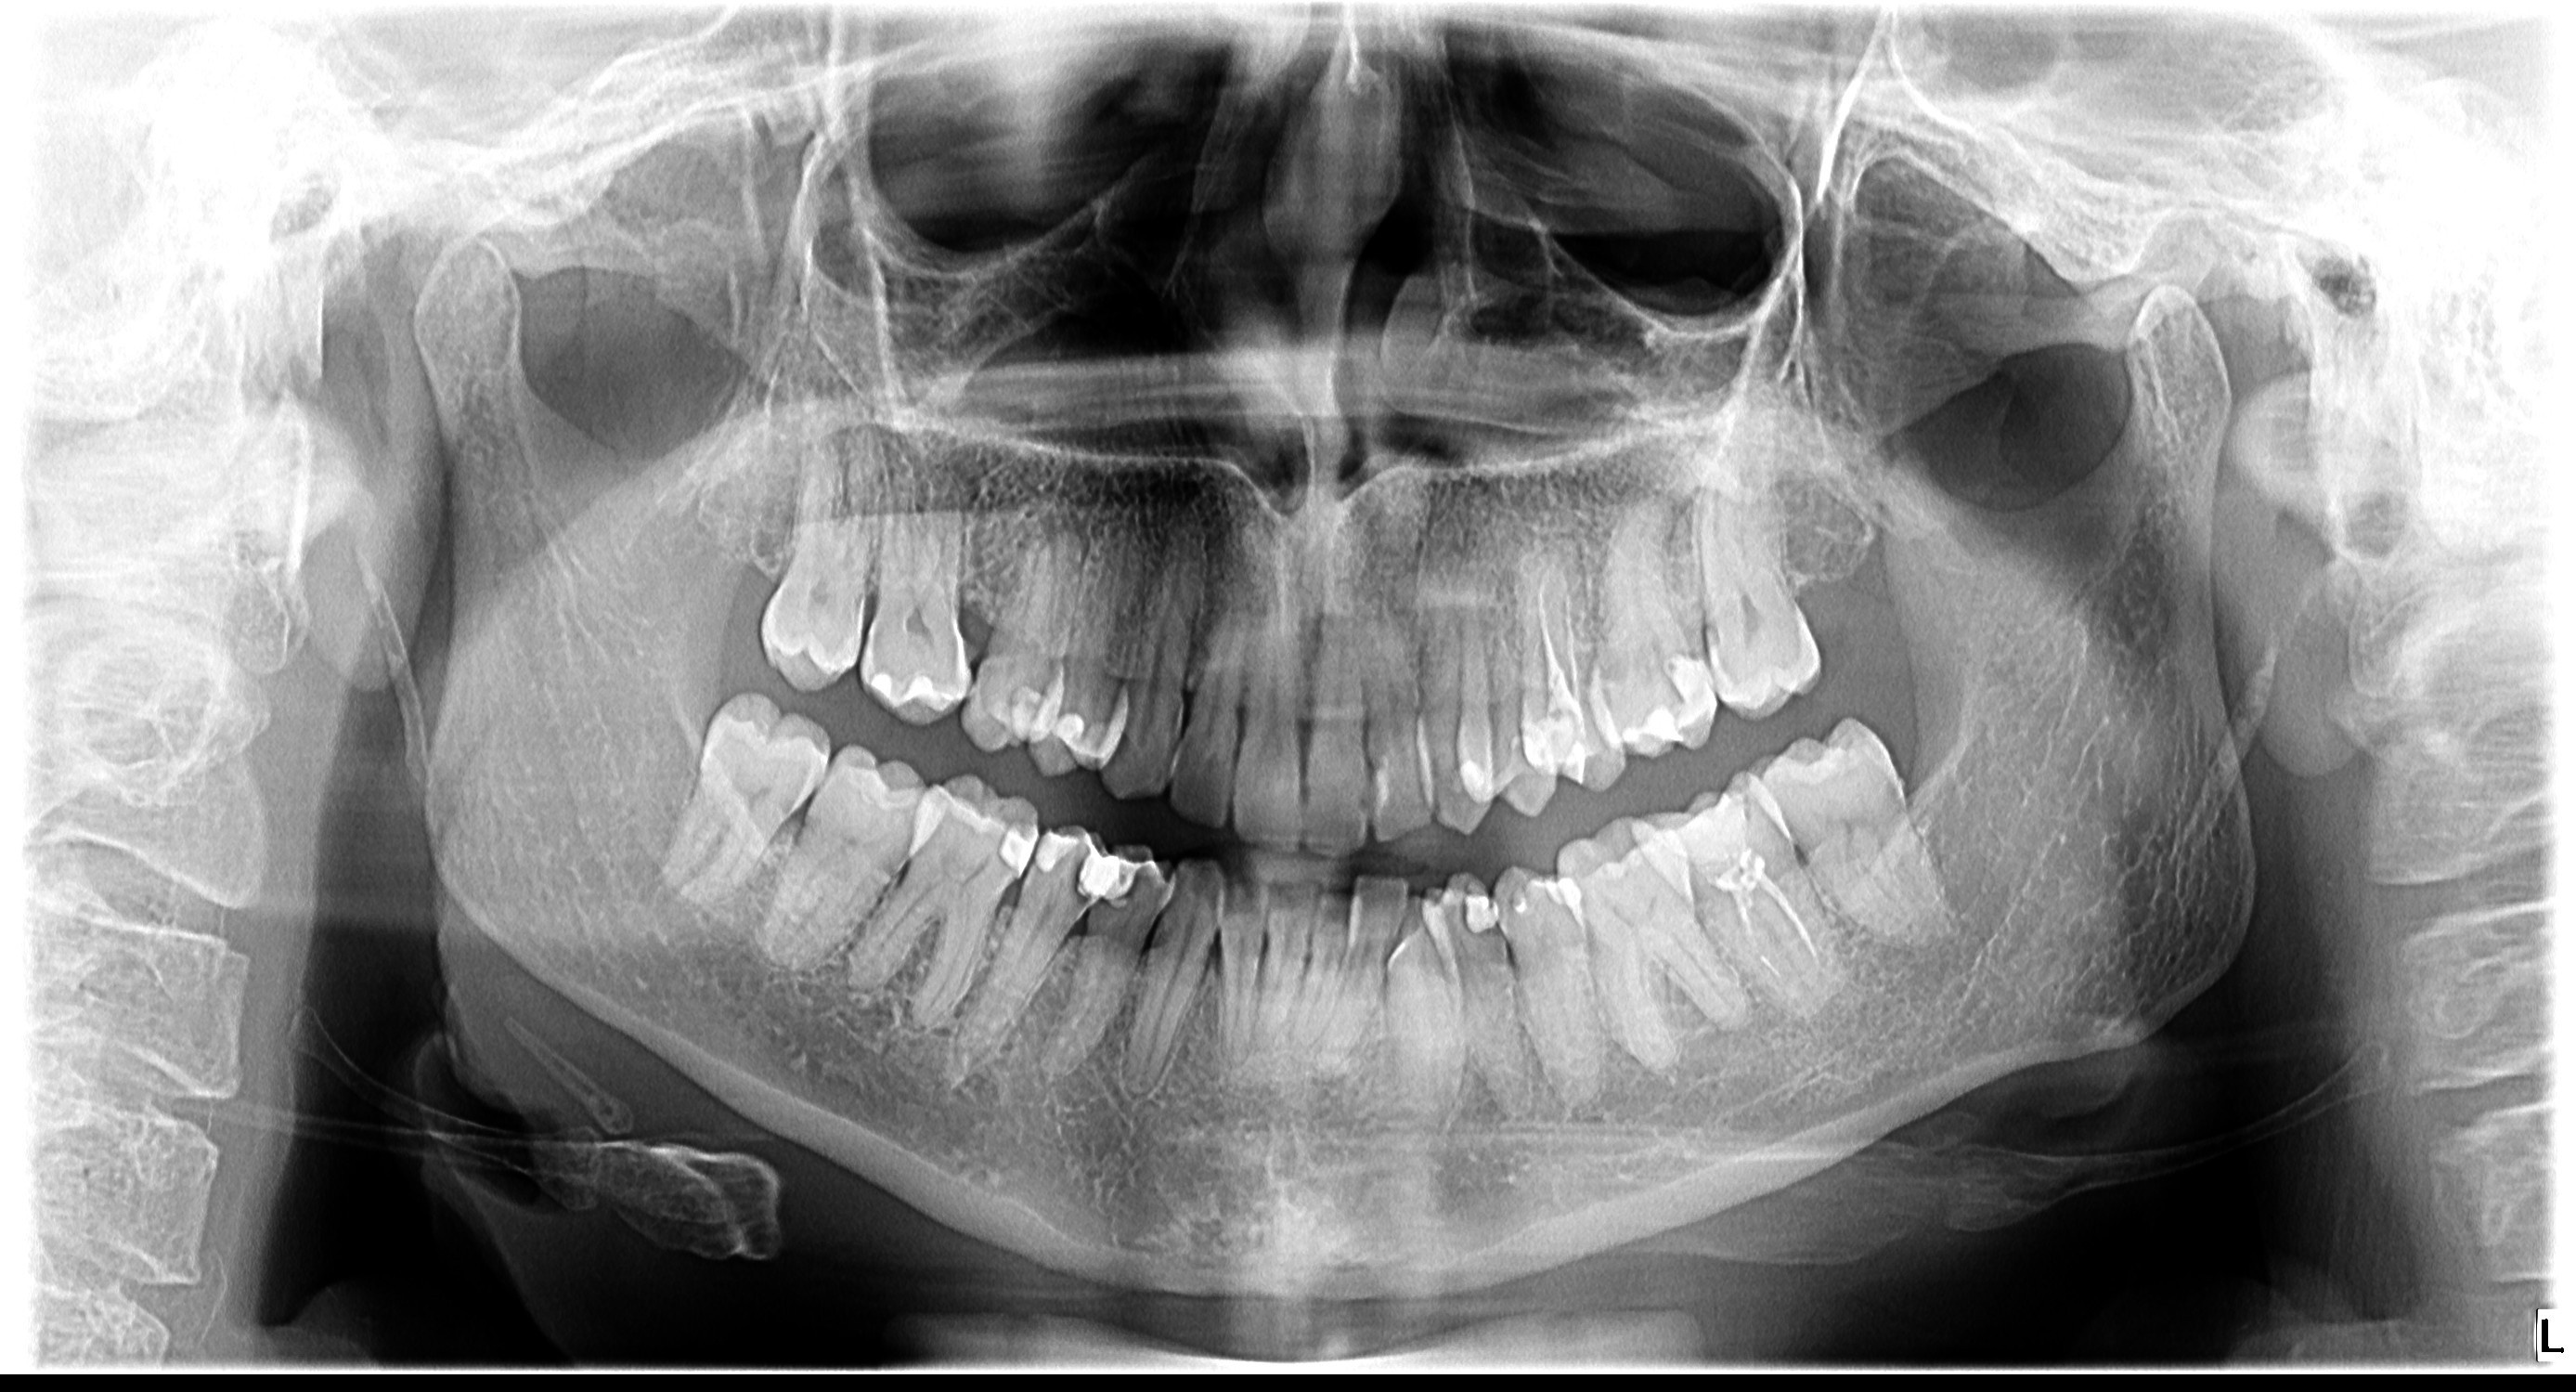CAR: (709, 441, 2225, 1392), (812, 293, 2526, 972), (656, 372, 2035, 1188), (538, 413, 1687, 1325), (521, 399, 1610, 1311)
END: (783, 382, 2576, 1366), (730, 199, 2326, 895)
OBT: (793, 333, 2555, 1224), (736, 408, 2329, 1320), (730, 401, 2273, 1332), (702, 415, 2201, 1347), (771, 317, 2460, 1077), (714, 293, 2317, 1085), (791, 290, 2533, 1017), (516, 398, 1670, 1298), (504, 389, 1627, 1293), (469, 384, 1567, 1263), (473, 370, 1506, 1246), (497, 312, 1613, 1077), (476, 295, 1535, 1042), (391, 297, 1350, 1010)
